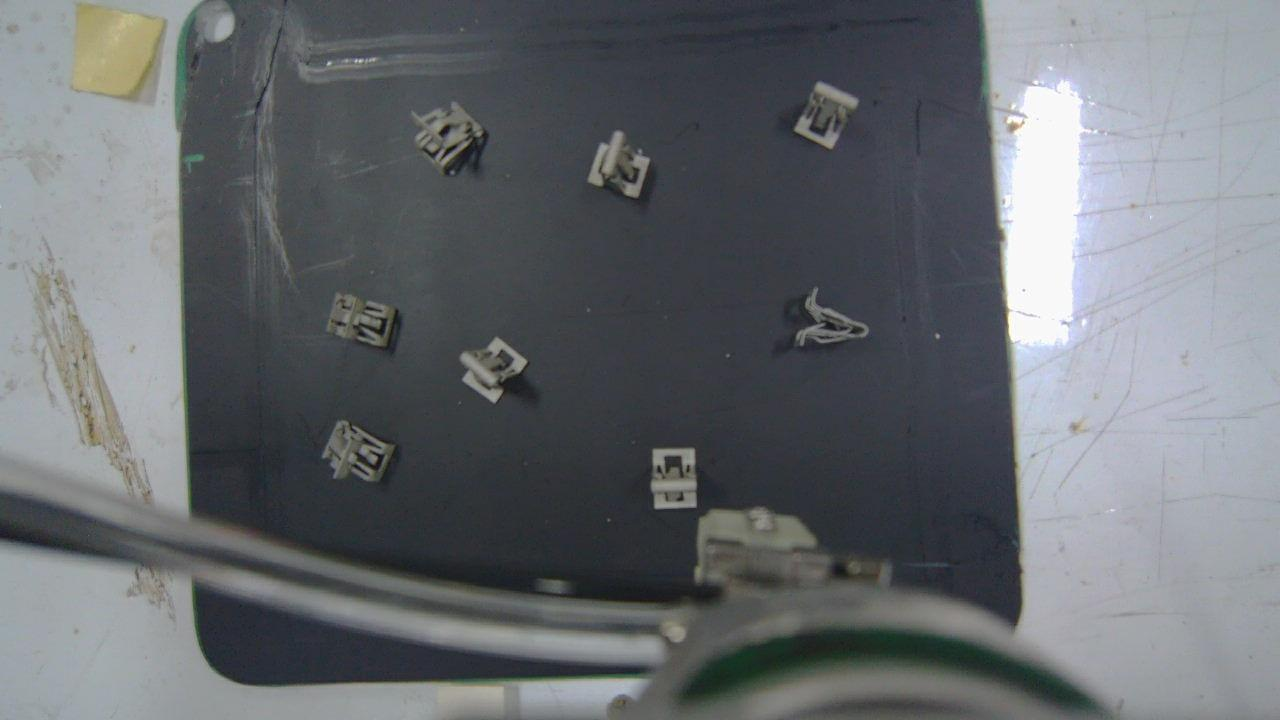ng: (411, 101, 487, 174), (793, 286, 867, 347), (321, 421, 395, 482), (794, 82, 860, 149), (460, 337, 528, 402), (589, 130, 650, 198), (327, 292, 398, 348)
pass: (651, 446, 699, 510)
